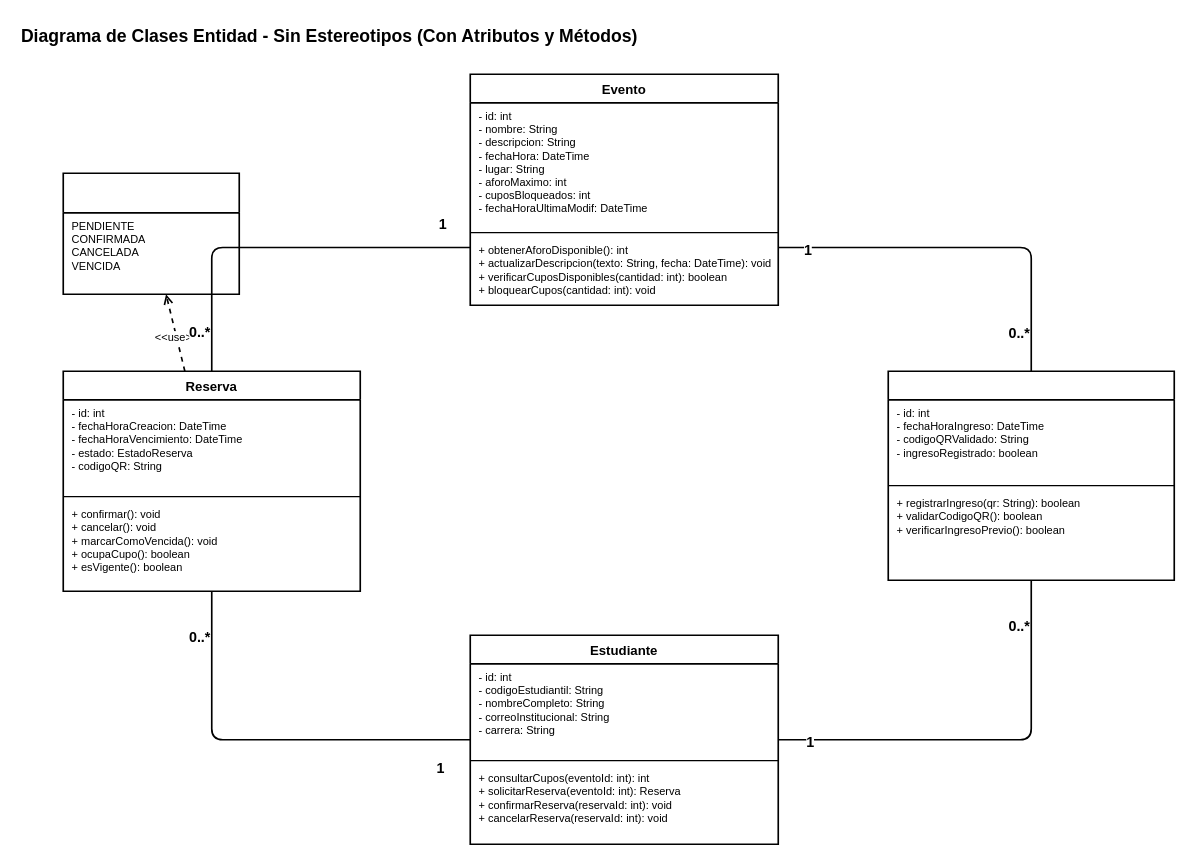
This 1194x866 diagram has some shape labels left out. The shapes that lost their labels are listed below. From the top down, each one's box as (x1, y1, x2, y2) in pixels, then its label:
(62, 172, 240, 295): <<enumeration>> EstadoReserva
(887, 370, 1175, 581): Asistencia
